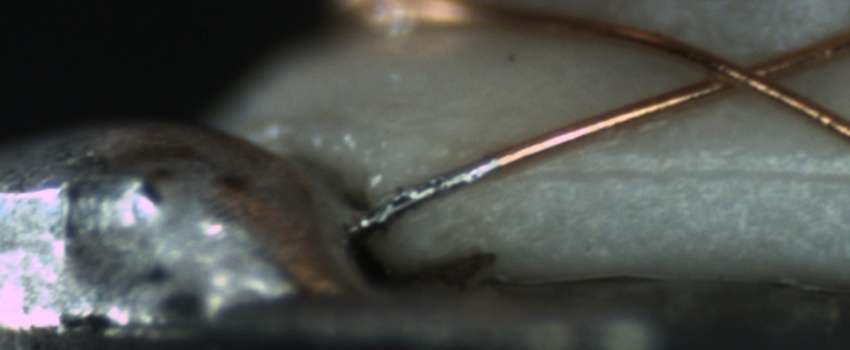CL: (683, 46, 806, 102)
DL: (520, 137, 849, 203)
TS: (344, 158, 501, 236)
